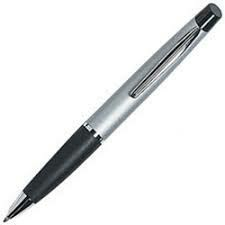pen: (3, 1, 220, 222)
